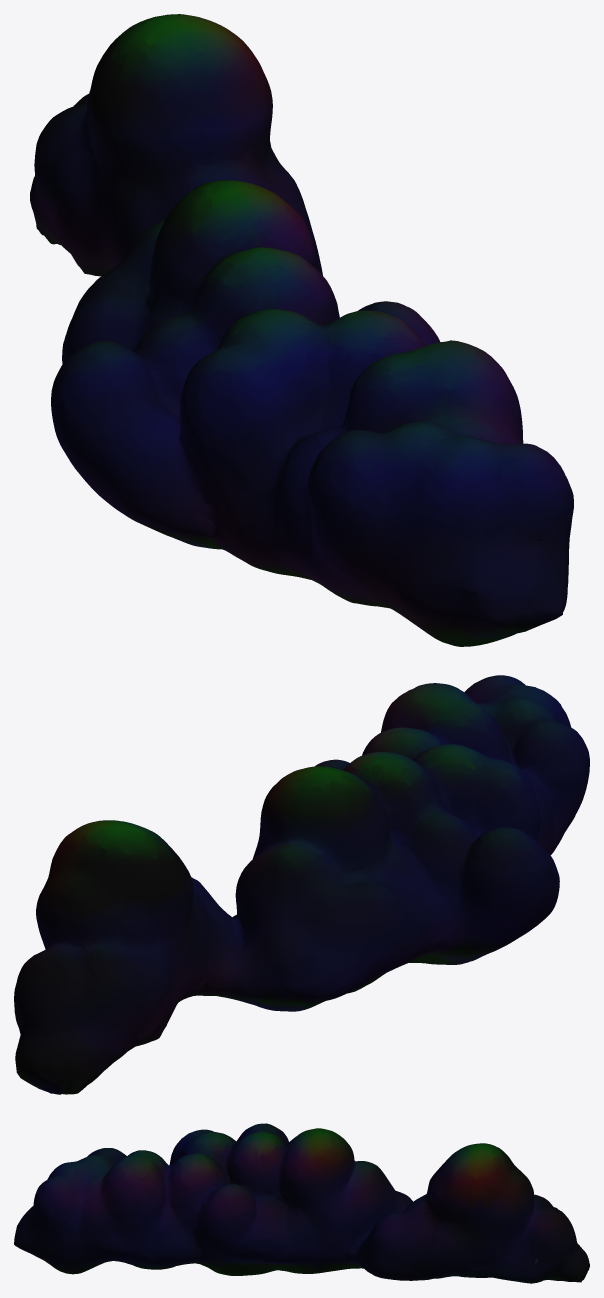
Rendered from longer_cloud.fbx.
3 renders of one model, top to bottom at view 1: azimuth 30°, elevation 25°; view 2: azimuth 150°, elevation 25°; view 3: azimuth 270°, elevation 25°, orthographic. The views are drawn at different scales.
Parts seen in each view (by area): view 1: longer_cloud; view 2: longer_cloud; view 3: longer_cloud.
Boxes of the visible parts, <box> form: longer_cloud: <box>30,14,573,646</box>; longer_cloud: <box>14,675,589,1094</box>; longer_cloud: <box>14,1123,589,1283</box>.
Size of the model in its own units: 5.89 by 4.08 by 13.91.
